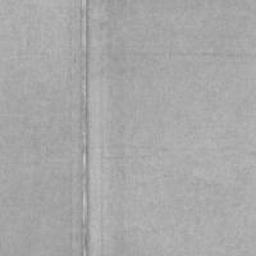Welding line: (81, 0, 88, 256)
